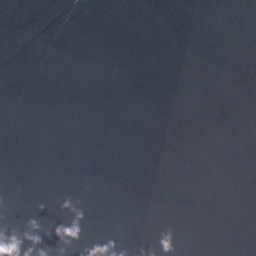Ship: (52, 0, 81, 45)
